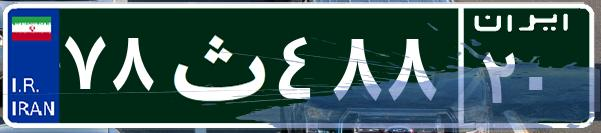0: (525, 38, 570, 115)
2: (475, 38, 525, 113)
4: (273, 28, 330, 110)
7: (57, 26, 110, 107)
8: (385, 28, 445, 110), (330, 28, 385, 110), (110, 28, 158, 105)
ث: (158, 15, 273, 115)
